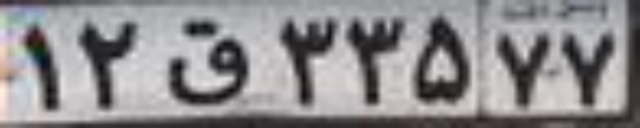1: (20, 24, 59, 111)
2: (79, 20, 138, 109)
3: (345, 15, 405, 106), (279, 15, 337, 105)
5: (411, 14, 472, 102)
7: (491, 28, 549, 110), (560, 27, 617, 109)
ghaf: (165, 17, 251, 104)
